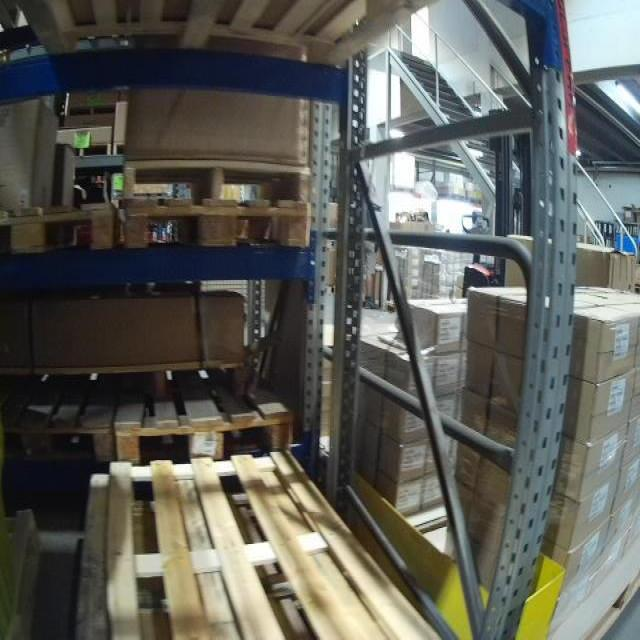pallet: (80, 445, 447, 640), (5, 0, 437, 71), (113, 369, 297, 466), (121, 194, 315, 254), (120, 157, 313, 210), (1, 376, 113, 466), (1, 199, 120, 255)
pallet_truck: (457, 103, 554, 297)
